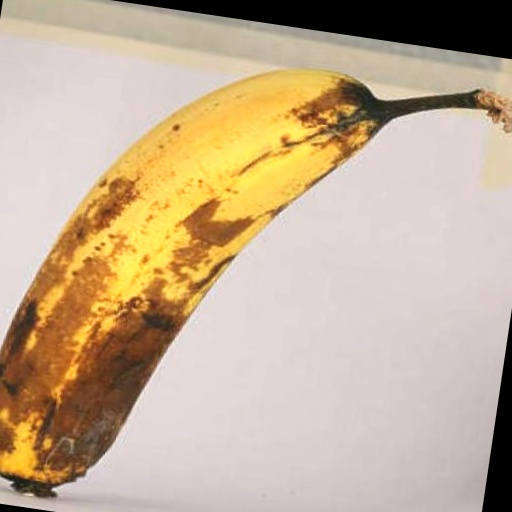fruit: (0, 69, 512, 495)
